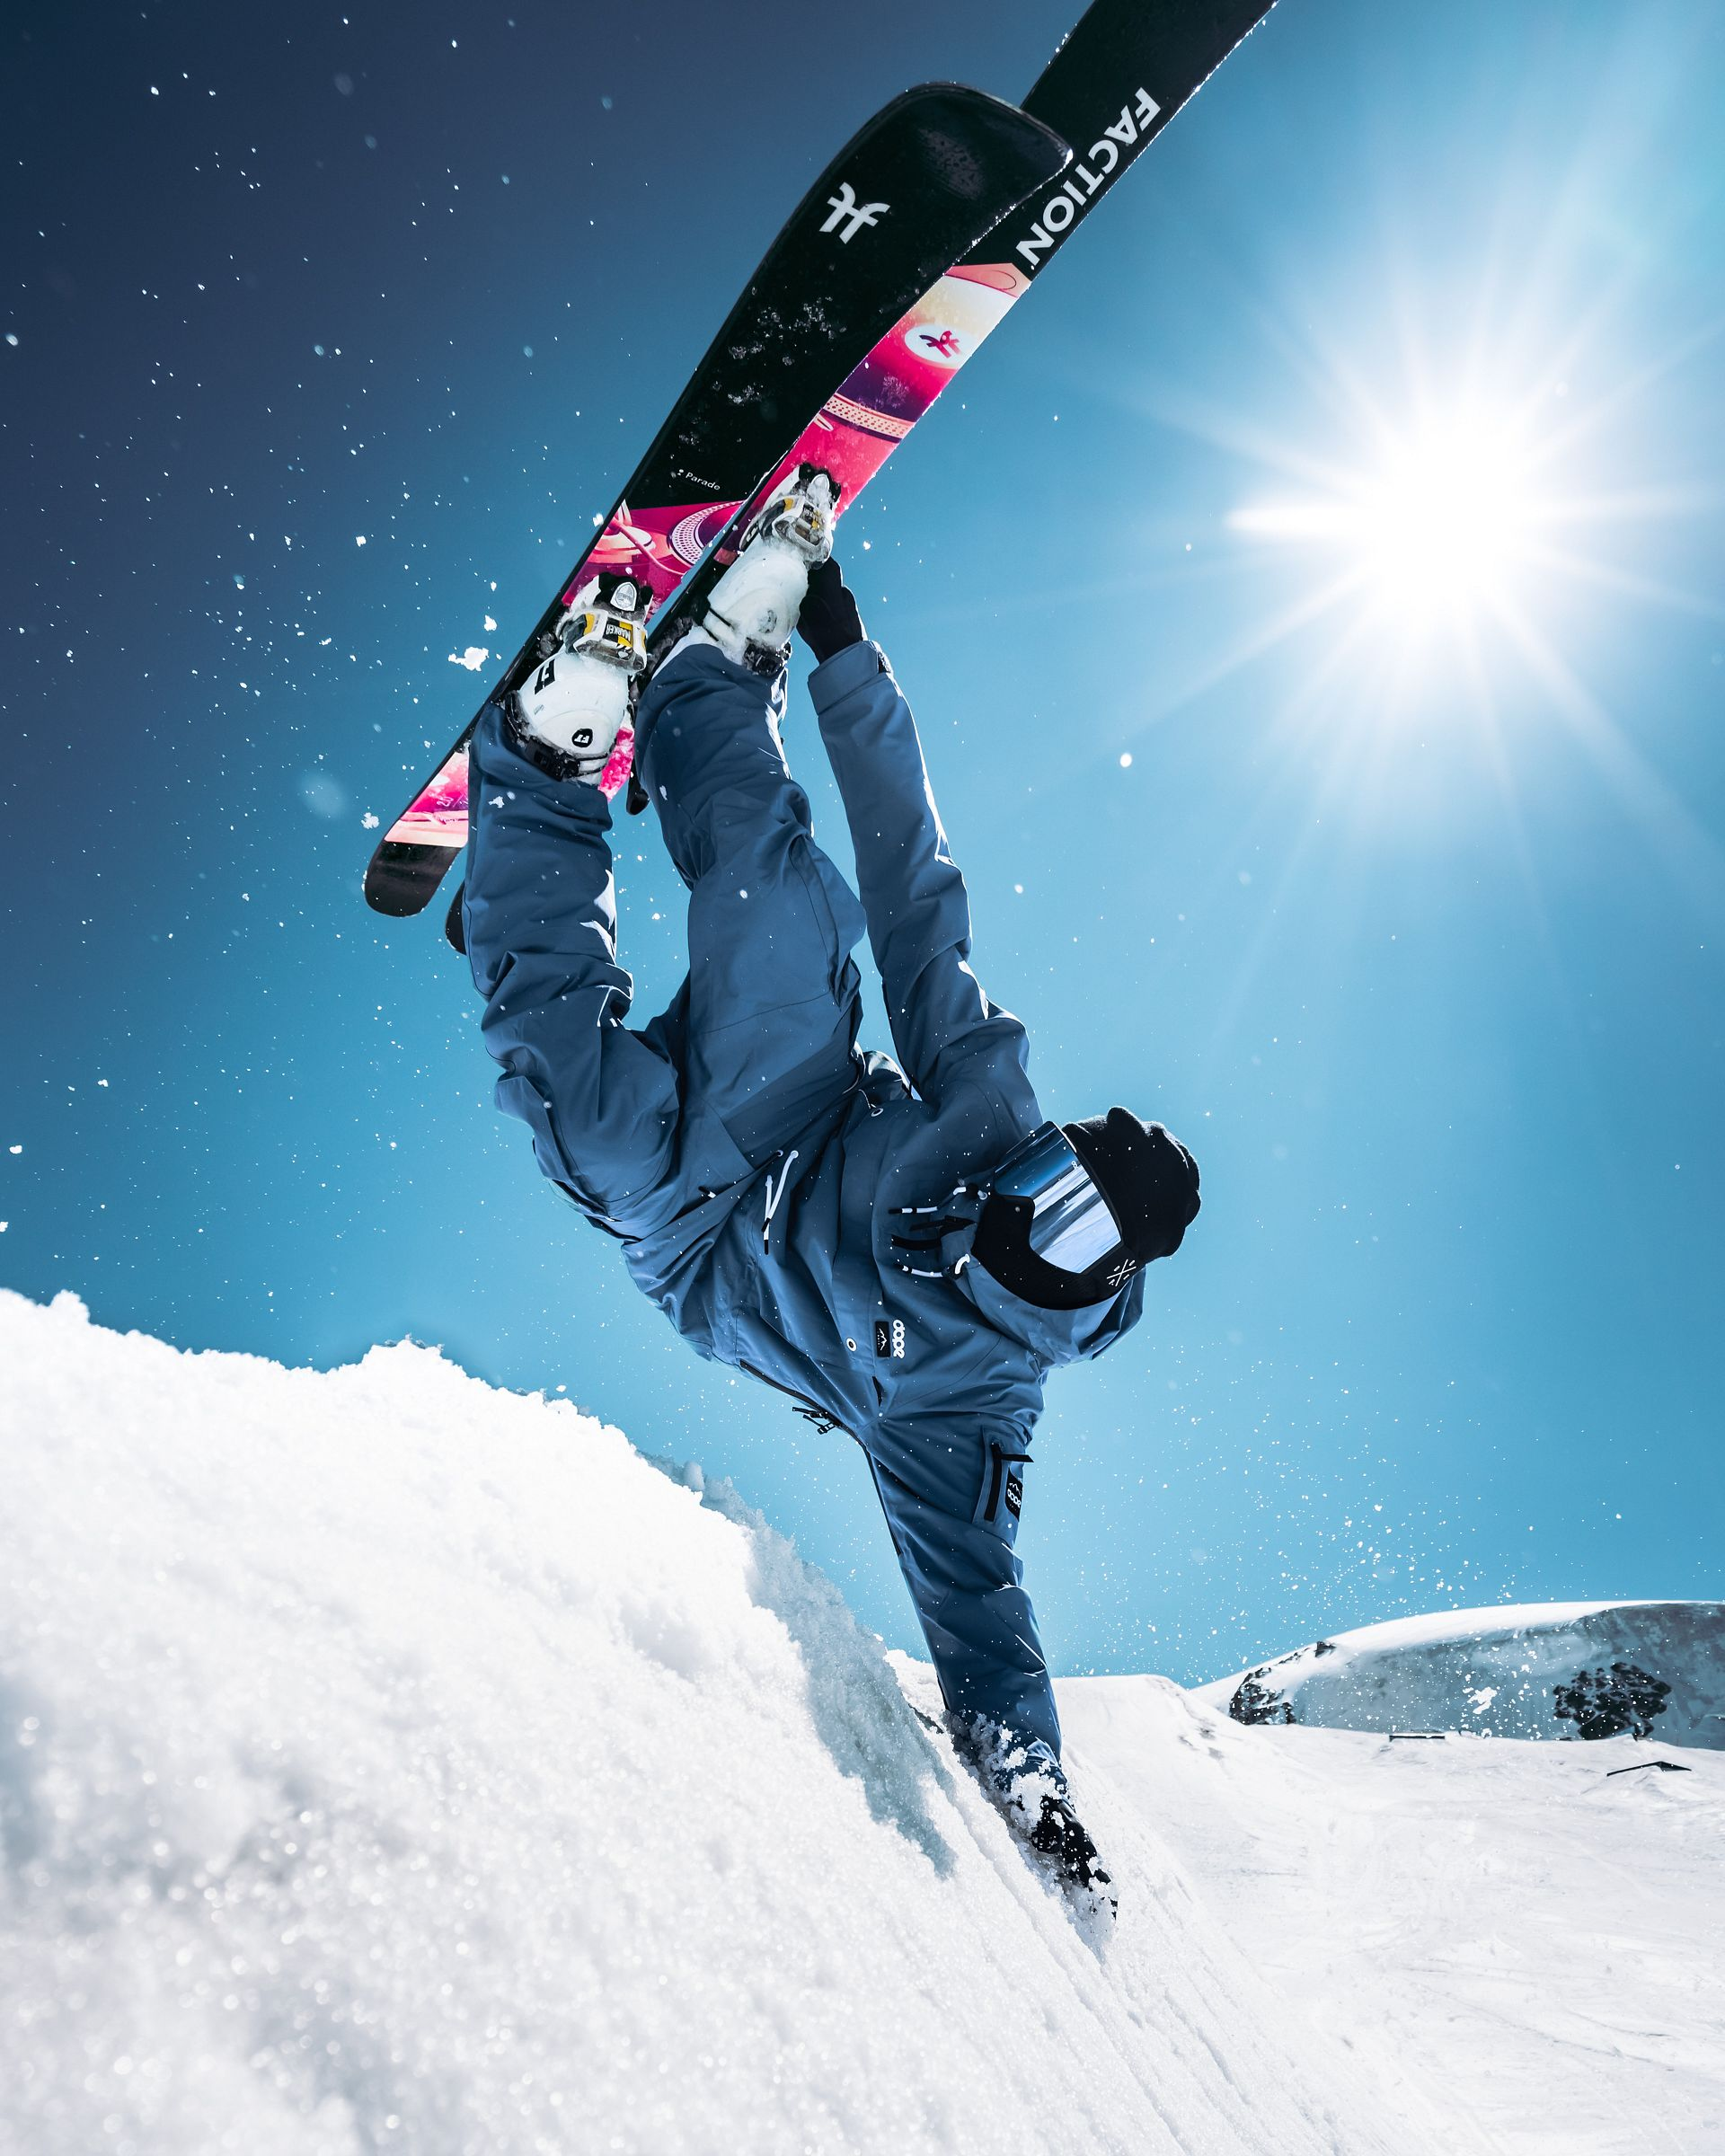skier: (349, 0, 1262, 1906)
